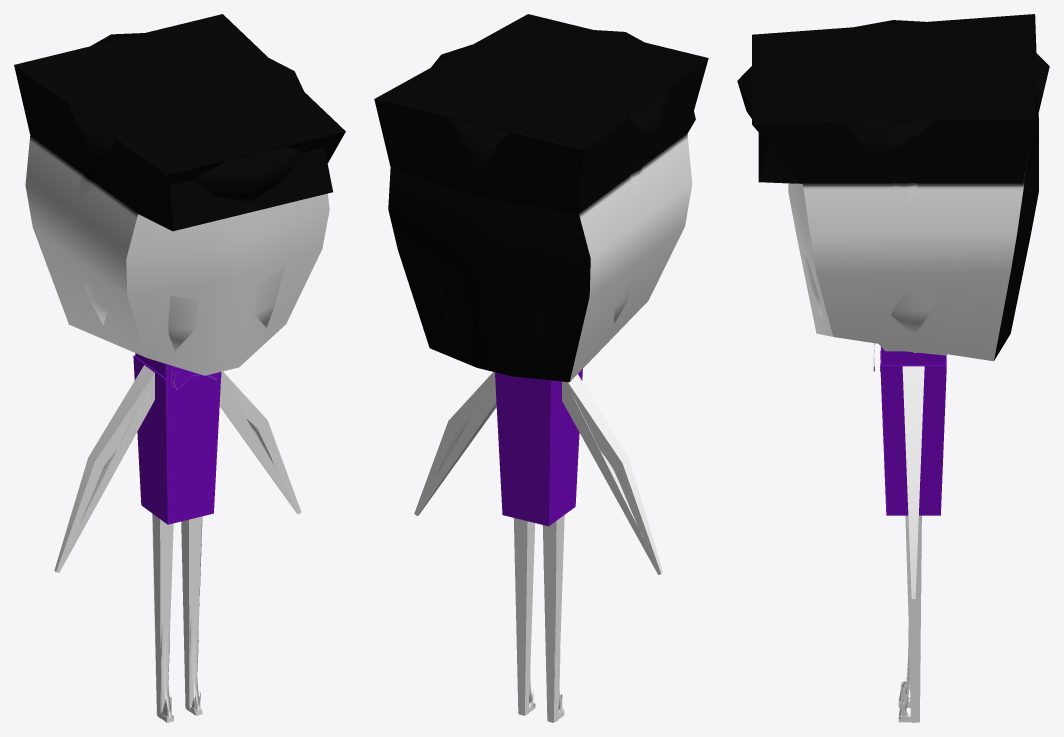
Rendered from E_ch_man.fbx.
The picture shows the model from 3 angles, left to right: view 1: azimuth 30°, elevation 25°; view 2: azimuth 150°, elevation 25°; view 3: azimuth 270°, elevation 25°; orthographic projection. The views are drawn at different scales.
Parts seen in each view (by area): view 1: mp_e_ch_man, lp_e_ch_man, hp_e_ch_man; view 2: mp_e_ch_man, lp_e_ch_man, hp_e_ch_man; view 3: mp_e_ch_man, lp_e_ch_man, hp_e_ch_man.
Part boxes in pixels (x1=…): mp_e_ch_man: x1=25, y1=27, x2=332, y2=722; lp_e_ch_man: x1=14, y1=14, x2=345, y2=718; hp_e_ch_man: x1=69, y1=33, x2=303, y2=717; mp_e_ch_man: x1=388, y1=42, x2=695, y2=722; lp_e_ch_man: x1=374, y1=14, x2=708, y2=721; hp_e_ch_man: x1=428, y1=30, x2=667, y2=721; mp_e_ch_man: x1=758, y1=23, x2=1038, y2=722; lp_e_ch_man: x1=752, y1=14, x2=1038, y2=722; hp_e_ch_man: x1=737, y1=20, x2=1049, y2=721.
Size of the model in its own units: 69.18 by 170 by 74.38.
